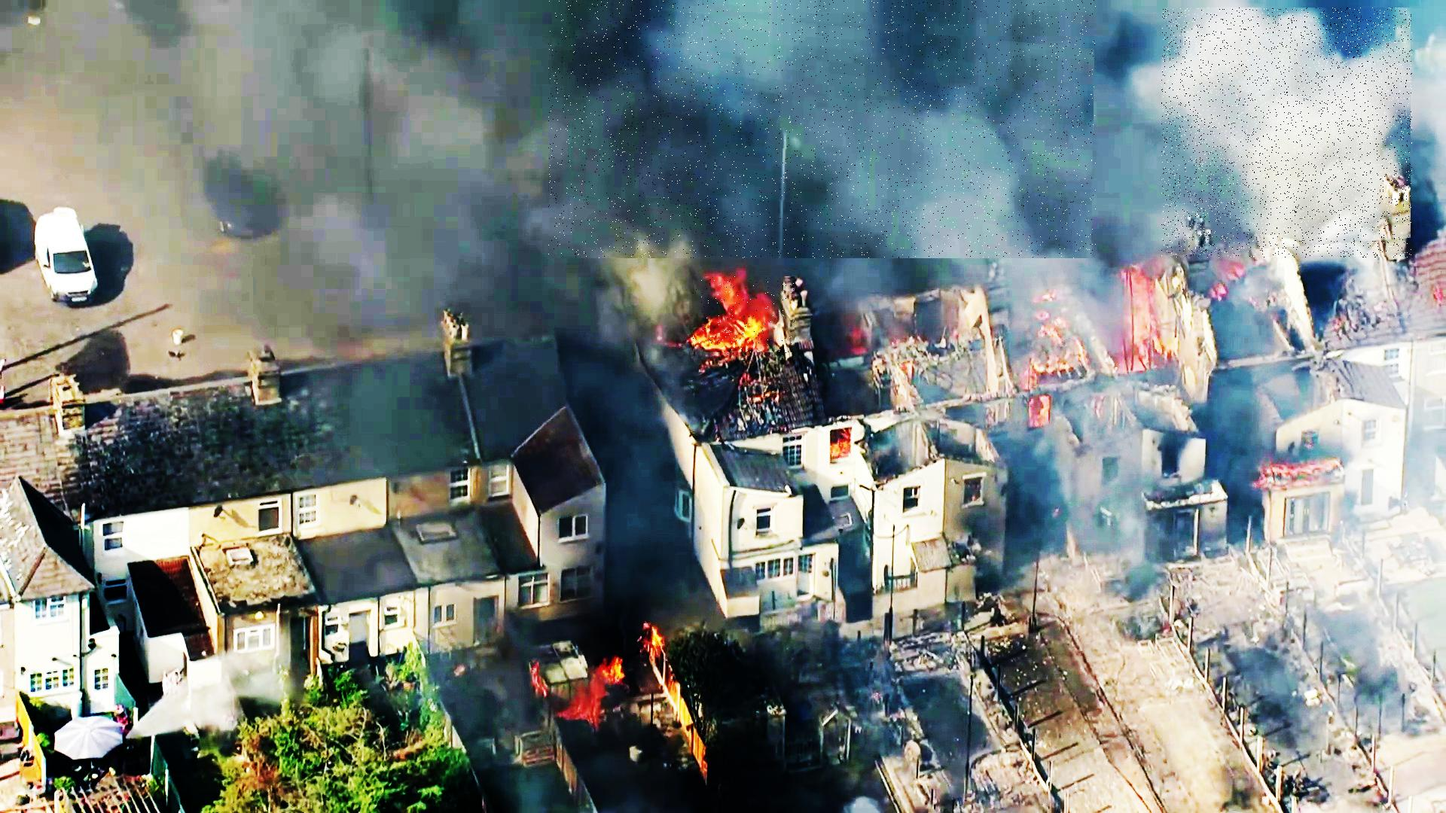fire: (693, 277, 795, 354)
smoke: (549, 0, 1096, 258), (1162, 8, 1413, 258)
